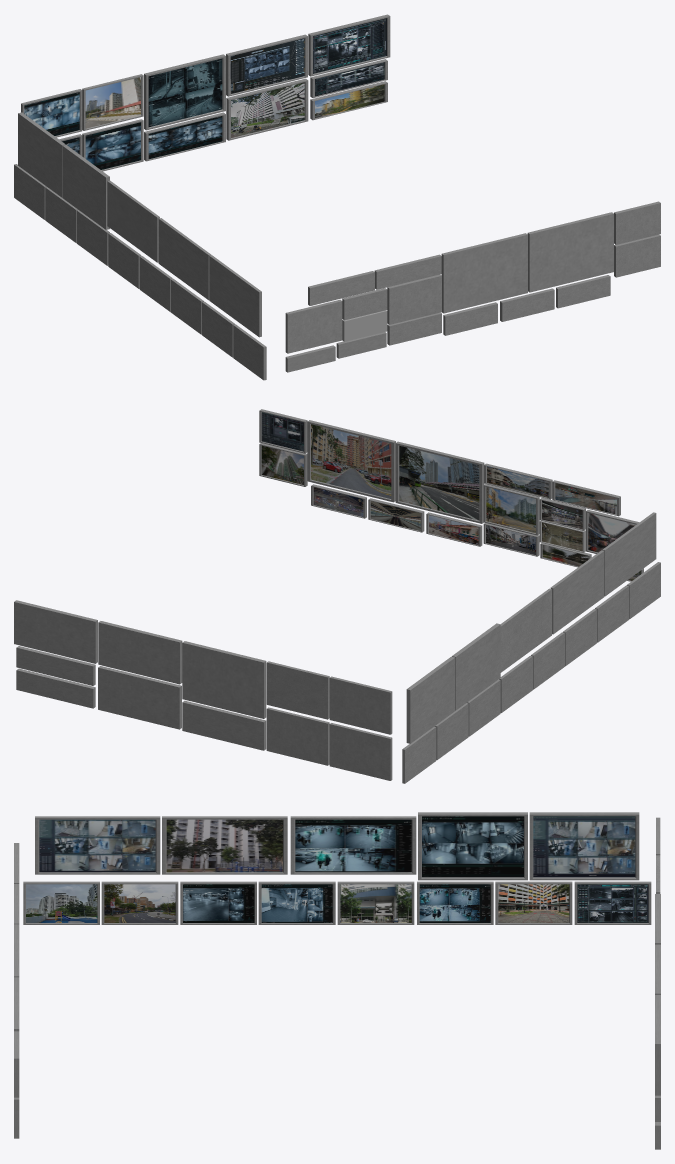
Rendered from cctv cameras.fbx.
3 renders of one model, top to bottom at view 1: azimuth 30°, elevation 25°; view 2: azimuth 150°, elevation 25°; view 3: azimuth 270°, elevation 25°, orthographic. The views are drawn at different scales.
Visible parts, largest first — view 1: pCube170, pCube169, pCube162, pCube165, pCube164, pCube163, polySurface1605, pCube137, pCube148, pCube138, pCube166, polySurface1603 (+27 smaller); view 2: pCube170, pCube169, pCube162, pCube163, pCube164, pCube165, pCube138, pCube158, pCube159, pCube160, polySurface1605, pCube166 (+27 smaller); view 3: pCube138, pCube137, polySurface1603, pCube147, pCube148, pCube139, pCube142, pCube140, pCube141, pCube144, pCube124, pCube143 (+2 smaller).
Part boxes in pixels (x1,y1,x2,y2): pCube170: (441, 233, 527, 313); pCube169: (527, 212, 613, 292); pCube162: (144, 54, 225, 130); pCube165: (226, 78, 308, 140); pCube164: (308, 14, 390, 76); pCube163: (226, 34, 307, 96); polySurface1605: (82, 74, 143, 130); pCube137: (62, 145, 109, 229); pCube148: (209, 255, 261, 337); pCube138: (18, 112, 65, 197); pCube166: (144, 112, 225, 161); polySurface1603: (107, 180, 159, 262); pCube170: (395, 441, 484, 523); pCube169: (307, 420, 395, 502); pCube162: (182, 641, 266, 718); pCube163: (98, 621, 182, 684); pCube164: (14, 600, 97, 663); pCube165: (98, 666, 181, 729); pCube138: (406, 656, 455, 743); pCube158: (329, 676, 392, 734); pCube159: (329, 723, 392, 780); pCube160: (266, 707, 329, 765); polySurface1605: (266, 661, 329, 719); pCube166: (182, 700, 266, 750); pCube138: (529, 812, 639, 880); pCube137: (418, 812, 527, 880); polySurface1603: (290, 816, 416, 874); pCube147: (162, 816, 287, 874); pCube148: (35, 816, 160, 874); pCube139: (495, 881, 572, 924); pCube142: (258, 881, 335, 924); pCube140: (574, 881, 651, 924); pCube141: (337, 881, 414, 924); pCube144: (101, 881, 178, 924); pCube124: (417, 881, 493, 924); pCube143: (180, 881, 256, 924).
Size of the model in its own units: 9.53 by 2.06 by 10.78.
2 materials, 1 textured.
